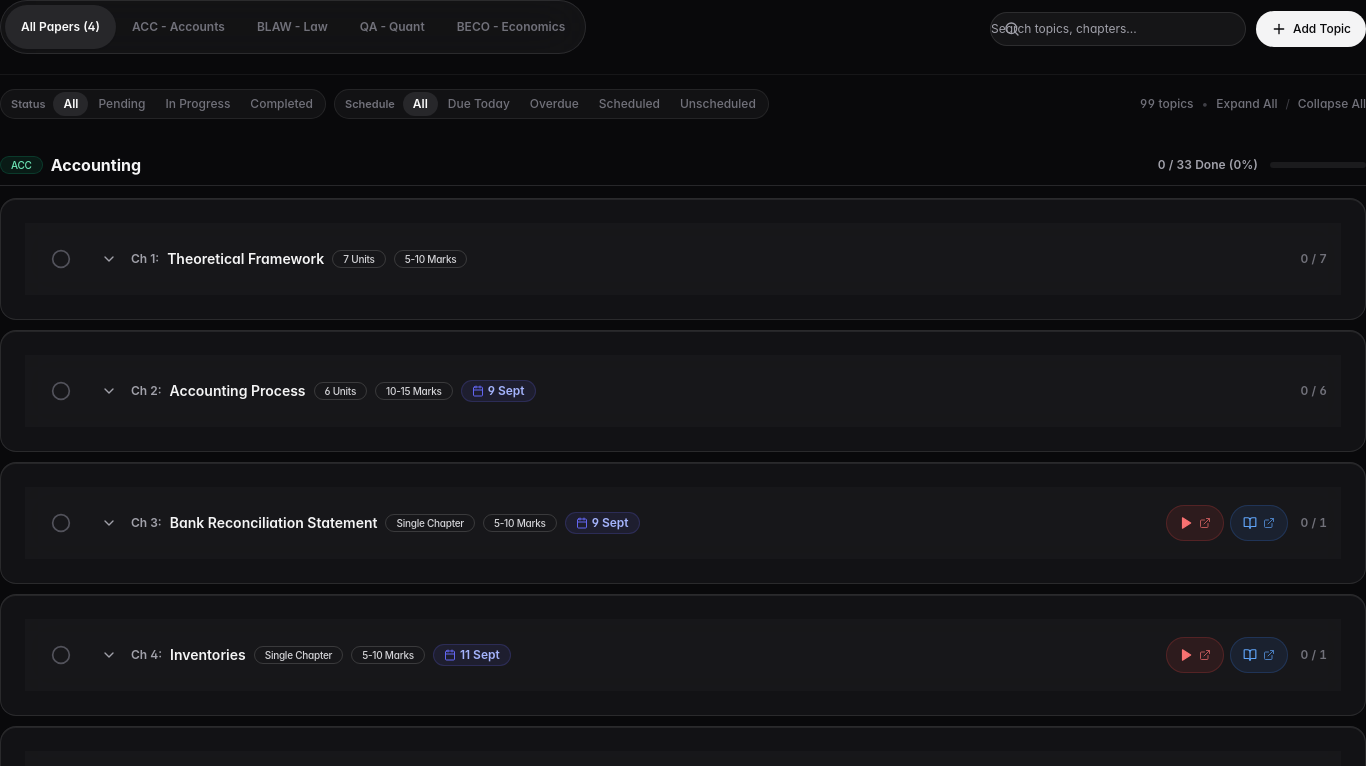
Test: Tier 1 - Feature 11: Custom Topic & Chapter Creation Modal › creates custom topic and immediately reflects it in Checklist
Click the button "Add Topic" at (1311, 29), box top-left (1256, 11), bottom-right (1365, 47)
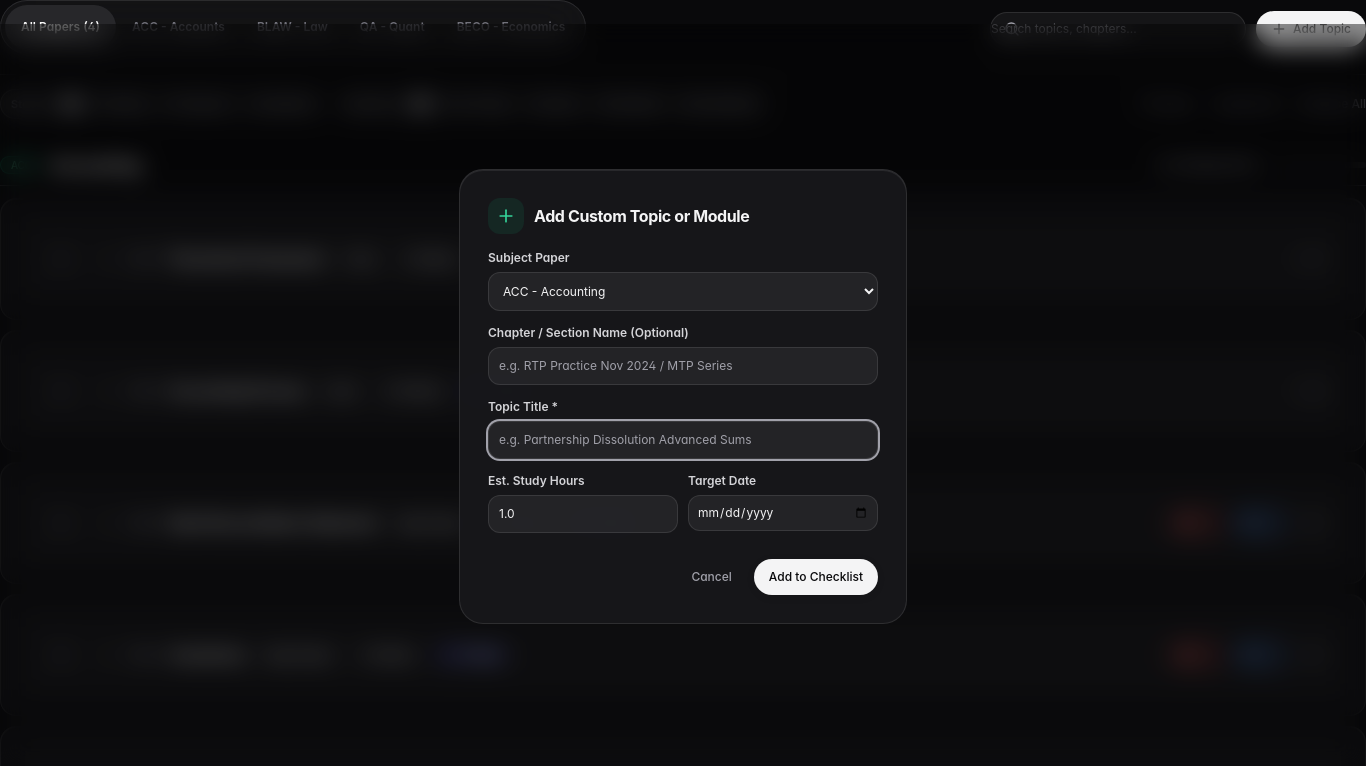
Type "Advanced Partnership RTP Questions" into the field with placeholder "e.g. Partnership Dissolution Advanced Sums" at (683, 440), box top-left (488, 420), bottom-right (878, 458)
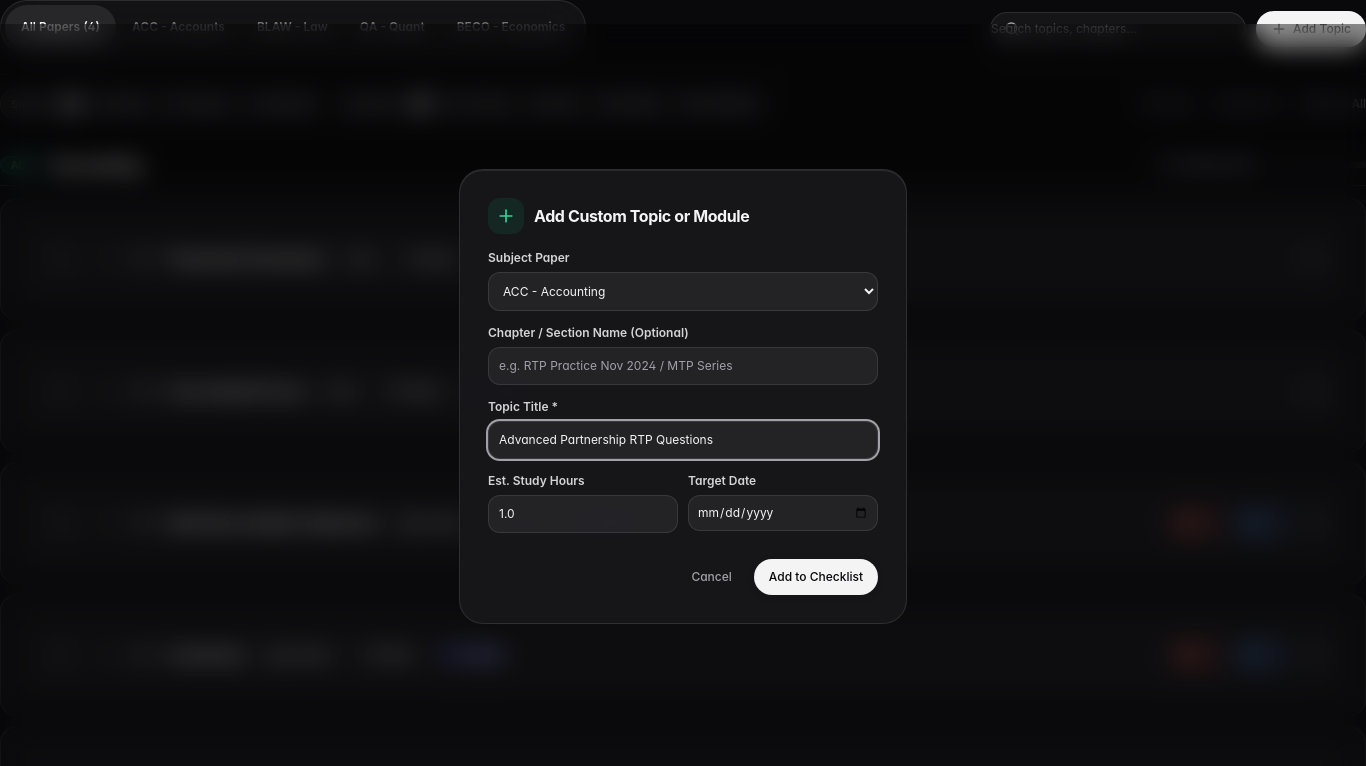
Submit the form named "Add to Checklist", box top-left (488, 250), bottom-right (878, 594)
(page scrolled)
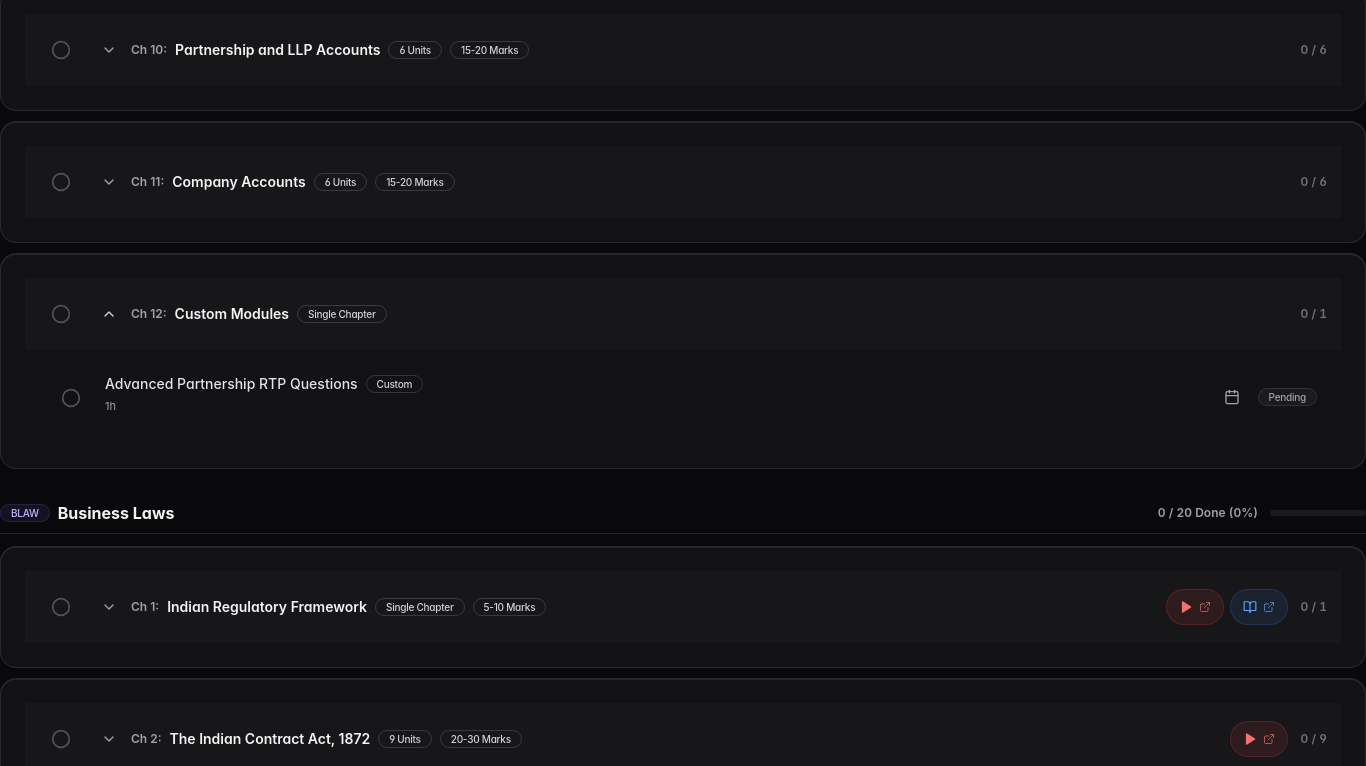
Expected: the text "Advanced Partnership RTP Questions" is shown, top-left (105, 374), bottom-right (358, 394)
Expected: the text "Custom" is shown, top-left (366, 375), bottom-right (423, 393)
